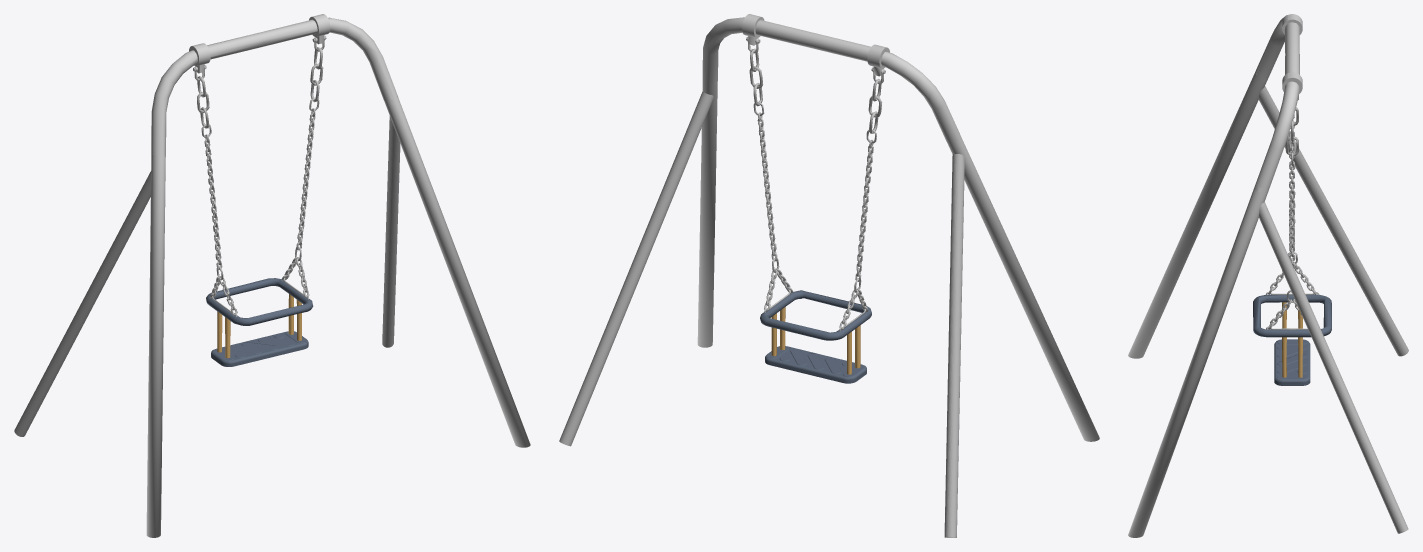
File: swing_babyswing.fbx
The picture shows the model from 3 angles, left to right: view 1: azimuth 30°, elevation 25°; view 2: azimuth 150°, elevation 25°; view 3: azimuth 270°, elevation 25°; orthographic projection. The views are drawn at different scales.
Visible parts, largest first — view 1: baby_swing_stand, baby_swing_chain, baby_swing_seat_holder, baby_swing_seat, baby_swing_holder; view 2: baby_swing_stand, baby_swing_chain, baby_swing_seat_holder, baby_swing_seat, baby_swing_holder; view 3: baby_swing_stand, baby_swing_seat_holder, baby_swing_chain, baby_swing_seat, baby_swing_holder.
Part boxes in pixels (left/top/right/bottom): baby_swing_stand: left=14, top=17, right=530, bottom=537; baby_swing_chain: left=194, top=36, right=325, bottom=316; baby_swing_seat_holder: left=206, top=278, right=313, bottom=358; baby_swing_seat: left=211, top=331, right=308, bottom=366; baby_swing_holder: left=189, top=14, right=330, bottom=73; baby_swing_stand: left=559, top=17, right=1099, bottom=537; baby_swing_chain: left=747, top=37, right=884, bottom=331; baby_swing_seat_holder: left=760, top=290, right=871, bottom=374; baby_swing_seat: left=765, top=346, right=866, bottom=383; baby_swing_holder: left=742, top=14, right=889, bottom=76; baby_swing_stand: left=1128, top=15, right=1408, bottom=537; baby_swing_seat_holder: left=1253, top=294, right=1331, bottom=377; baby_swing_chain: left=1266, top=94, right=1318, bottom=329; baby_swing_seat: left=1274, top=339, right=1310, bottom=385; baby_swing_holder: left=1282, top=14, right=1302, bottom=93.
Size of the model in its own units: 4.58 by 4.6 by 2.93.
